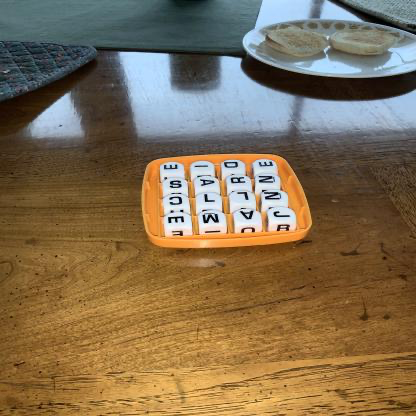a: (234, 208, 261, 226), (195, 176, 220, 191)
c: (165, 195, 190, 209)
d: (222, 159, 243, 172)
e: (165, 213, 190, 229), (161, 161, 184, 176), (256, 159, 278, 171)
i: (191, 161, 214, 174)
j: (269, 207, 296, 224)
l: (233, 190, 255, 206), (199, 193, 222, 208)
m: (199, 210, 225, 228)
n: (261, 189, 287, 205), (256, 173, 282, 188)
r: (228, 174, 249, 189)
s: (164, 178, 187, 193)
